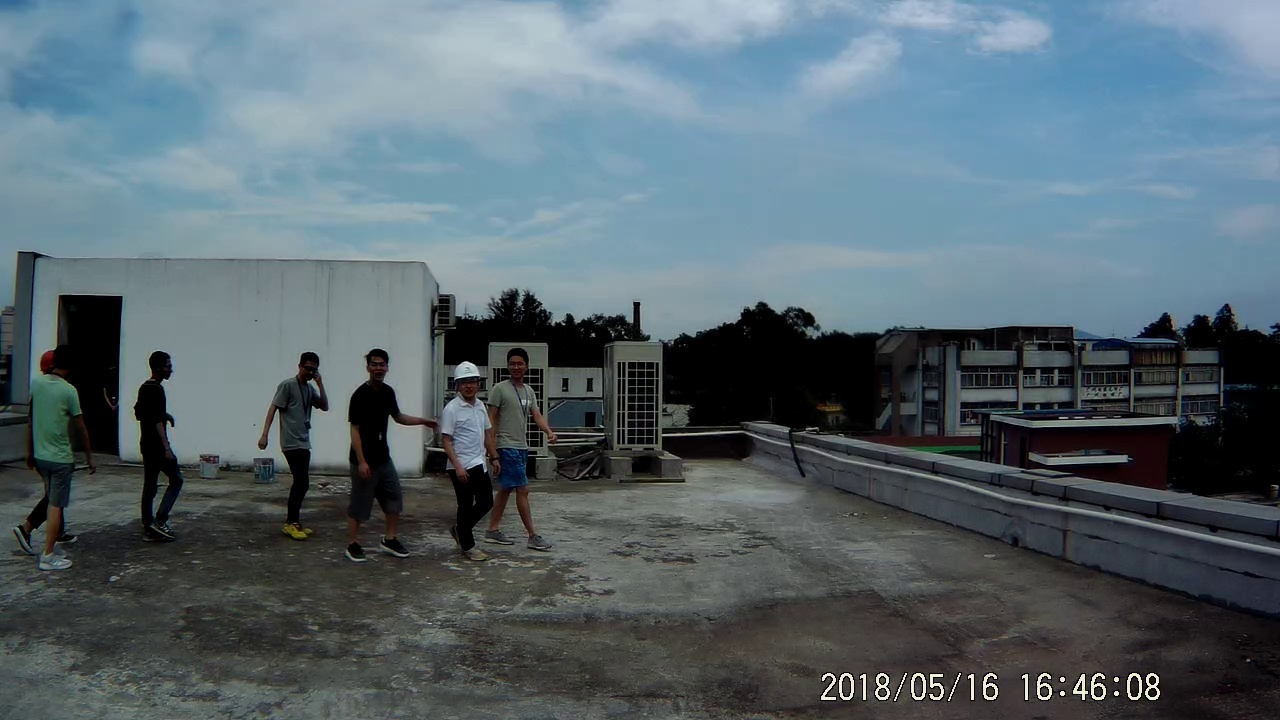none: (361, 344, 392, 387), (47, 338, 80, 376), (142, 349, 176, 384), (501, 347, 531, 385), (291, 348, 320, 384)
white: (448, 361, 482, 400)
